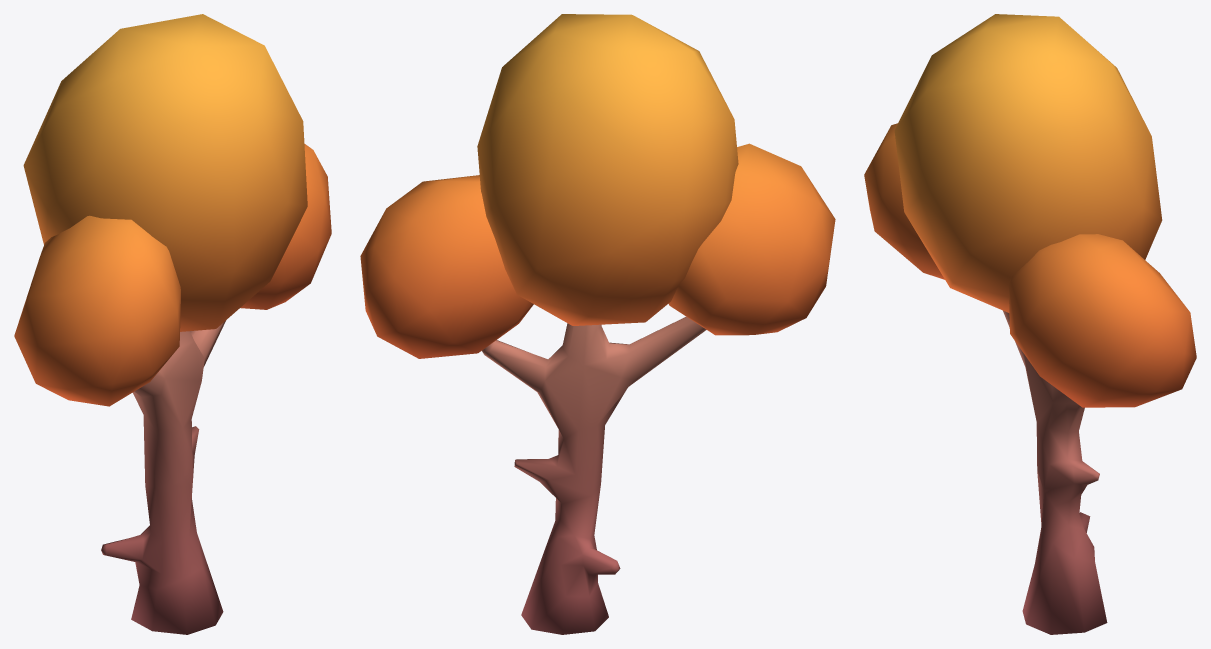
File: Tree_2_2.fbx
The picture shows the model from 3 angles, left to right: view 1: azimuth 30°, elevation 25°; view 2: azimuth 150°, elevation 25°; view 3: azimuth 270°, elevation 25°; orthographic projection. The views are drawn at different scales.
Parts seen in each view (by area): view 1: Tree_2; view 2: Tree_2; view 3: Tree_2.
Part boxes in pixels (<box>): Tree_2: <box>14,14,331,634</box>; Tree_2: <box>360,14,835,634</box>; Tree_2: <box>864,14,1196,634</box>.
Size of the model in its own units: 143 by 216 by 113.
